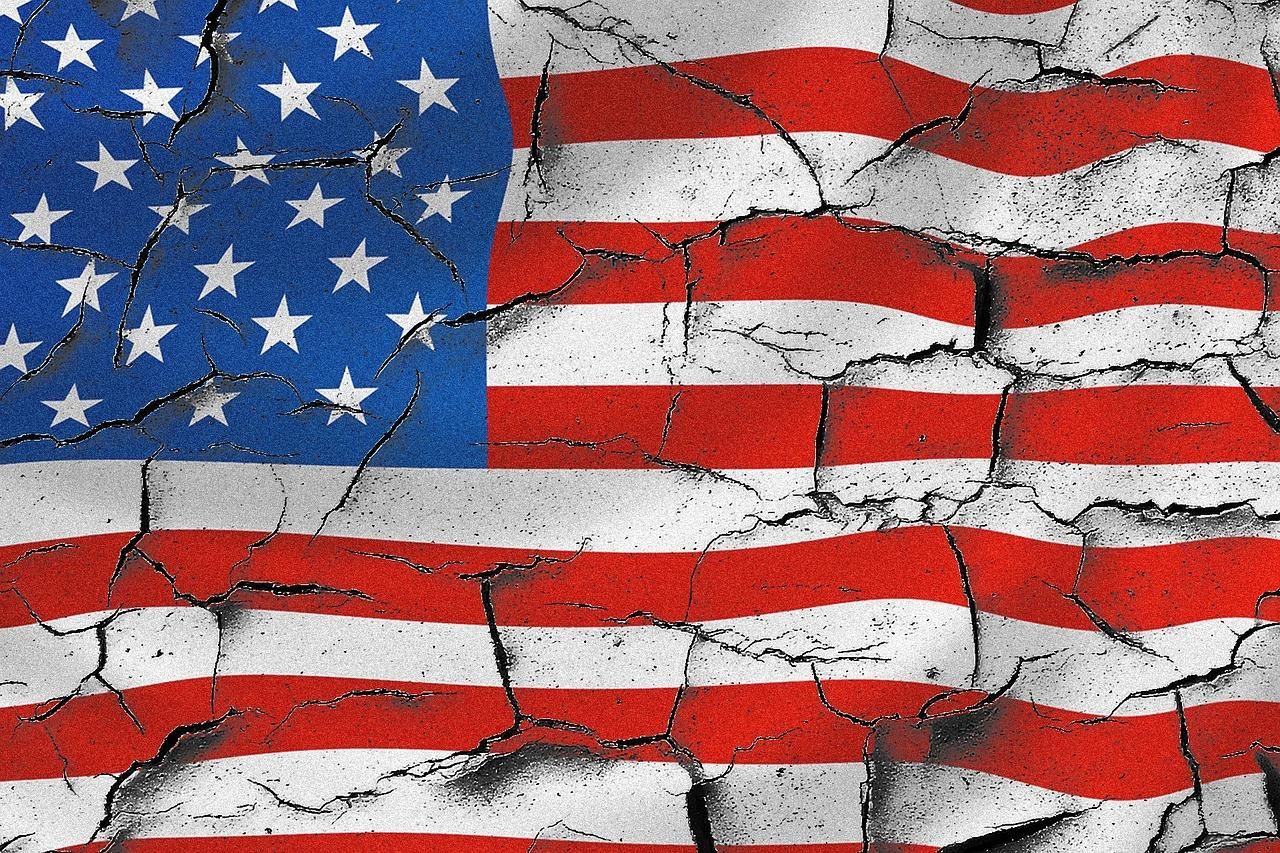network cracks: (374, 0, 1279, 852), (0, 328, 381, 850), (245, 535, 595, 815), (1070, 582, 1279, 852), (209, 113, 516, 282), (0, 166, 213, 366), (1020, 492, 1265, 664), (471, 382, 768, 503), (907, 0, 1202, 98), (307, 365, 424, 547), (840, 64, 998, 189), (0, 275, 94, 398), (253, 686, 428, 748), (59, 96, 181, 183), (167, 0, 227, 141), (0, 0, 83, 88), (875, 0, 919, 122), (525, 27, 556, 189), (0, 532, 90, 571)
